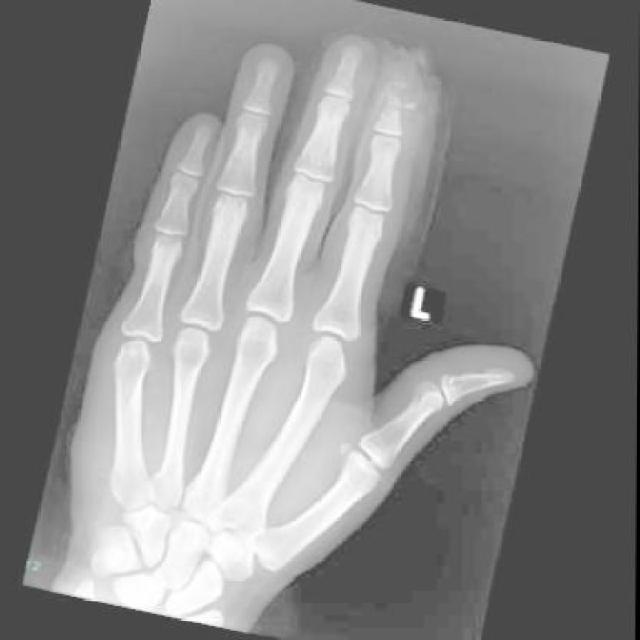Fracture: (354, 37, 442, 128)
